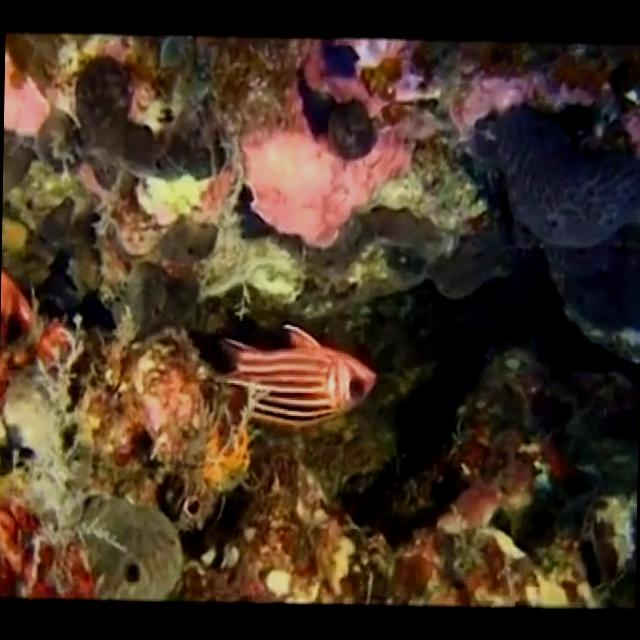Asker Baligi: (204, 318, 378, 433)
